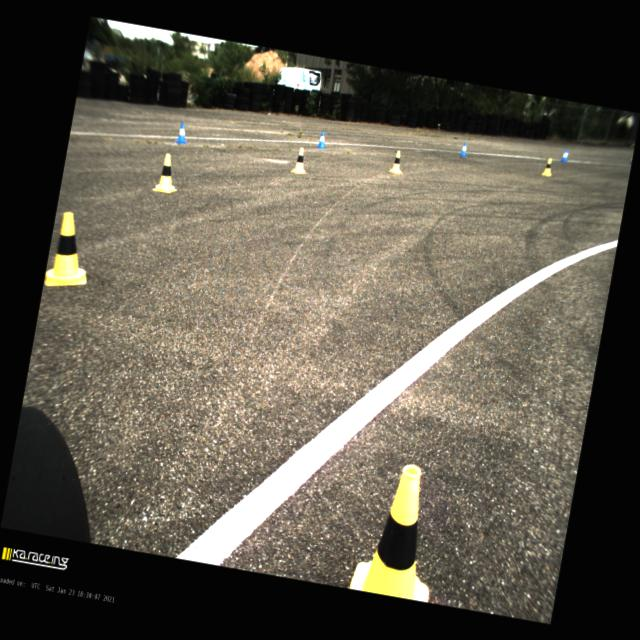blue_cone: (175, 121, 189, 144), (316, 130, 328, 149), (459, 142, 468, 156), (560, 149, 568, 162)
yellow_cone: (349, 458, 450, 602), (44, 209, 98, 292), (152, 151, 183, 194), (290, 146, 310, 175), (388, 149, 406, 175), (541, 157, 553, 176)
